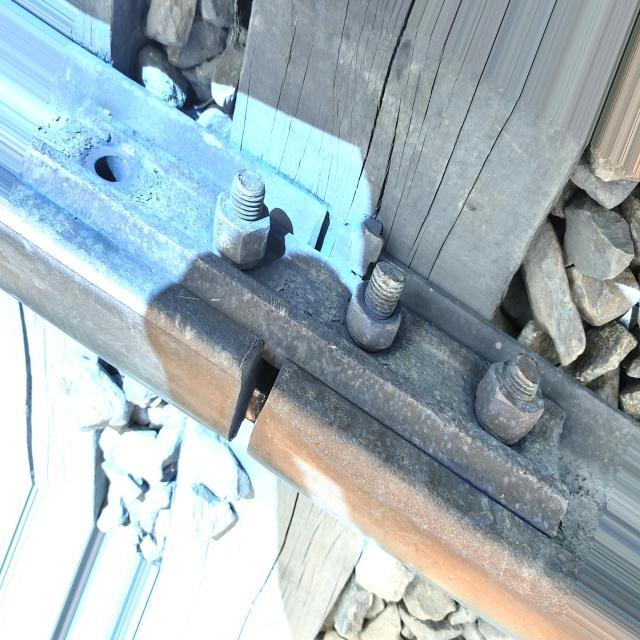Defective Joint: (15, 102, 567, 554)
